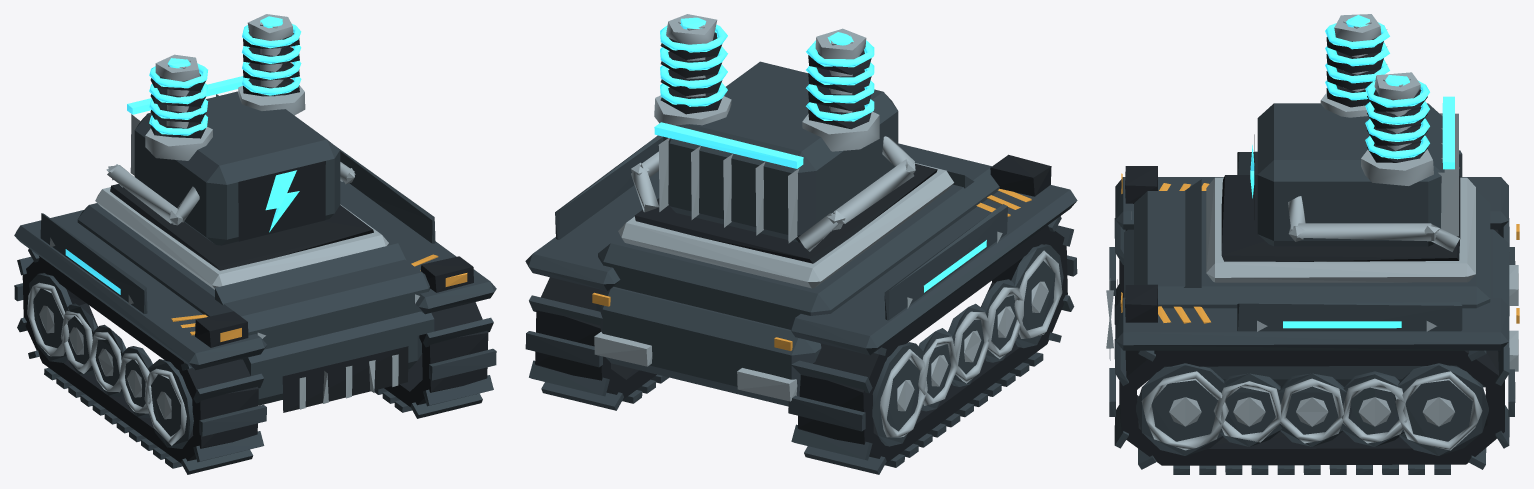
File: utilitank-electric.glb
The picture shows the model from 3 angles, left to right: view 1: azimuth 30°, elevation 25°; view 2: azimuth 150°, elevation 25°; view 3: azimuth 270°, elevation 25°; orthographic projection. The views are drawn at different scales.
Parts seen in each view (by area): view 1: utilitank-electric__01_graphite_armor, utilitank-electric__03_tread_and_recess, utilitank-electric__02_brushed_titanium, utilitank-electric__04_electric_cyan, utilitank-electric__05_caution_amber; view 2: utilitank-electric__01_graphite_armor, utilitank-electric__02_brushed_titanium, utilitank-electric__03_tread_and_recess, utilitank-electric__04_electric_cyan, utilitank-electric__05_caution_amber; view 3: utilitank-electric__01_graphite_armor, utilitank-electric__02_brushed_titanium, utilitank-electric__03_tread_and_recess, utilitank-electric__04_electric_cyan, utilitank-electric__05_caution_amber.
Part boxes in pixels (x1,y1,x2,y2): utilitank-electric__01_graphite_armor: (14, 91, 496, 474); utilitank-electric__03_tread_and_recess: (22, 32, 488, 462); utilitank-electric__02_brushed_titanium: (27, 14, 419, 445); utilitank-electric__04_electric_cyan: (65, 16, 301, 294); utilitank-electric__05_caution_amber: (171, 254, 467, 341); utilitank-electric__01_graphite_armor: (525, 61, 1077, 474); utilitank-electric__02_brushed_titanium: (594, 14, 1062, 437); utilitank-electric__03_tread_and_recess: (535, 32, 1067, 463); utilitank-electric__04_electric_cyan: (654, 17, 986, 292); utilitank-electric__05_caution_amber: (592, 189, 1031, 350); utilitank-electric__01_graphite_armor: (1109, 103, 1515, 474); utilitank-electric__02_brushed_titanium: (1106, 14, 1518, 450); utilitank-electric__03_tread_and_recess: (1117, 37, 1504, 465); utilitank-electric__04_electric_cyan: (1250, 15, 1454, 328); utilitank-electric__05_caution_amber: (1120, 173, 1519, 323).
Size of the model in its own units: 1.04 by 1.04 by 1.12.
